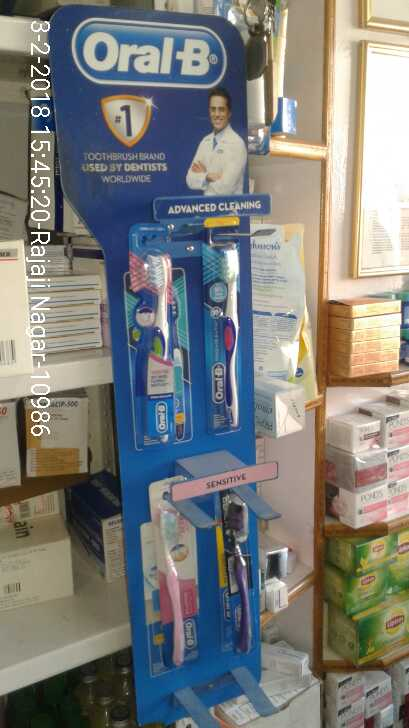oralb: (126, 252, 193, 446), (141, 494, 203, 671), (205, 239, 239, 439), (222, 492, 260, 655)
